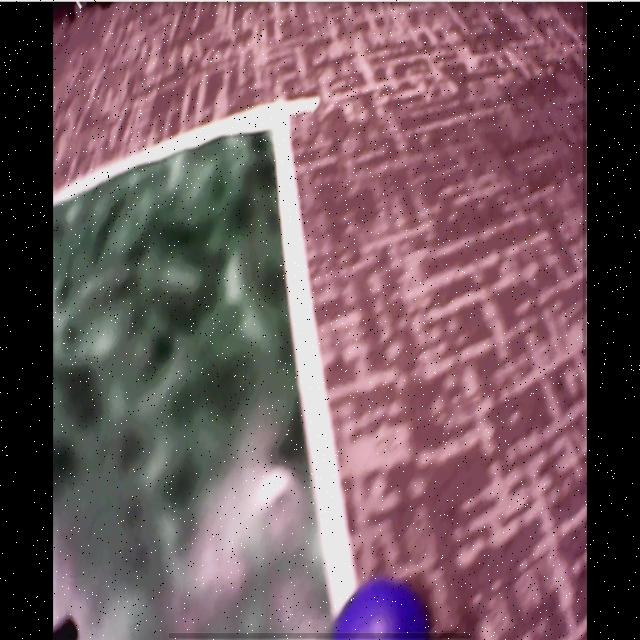ball: (328, 580, 427, 638)
